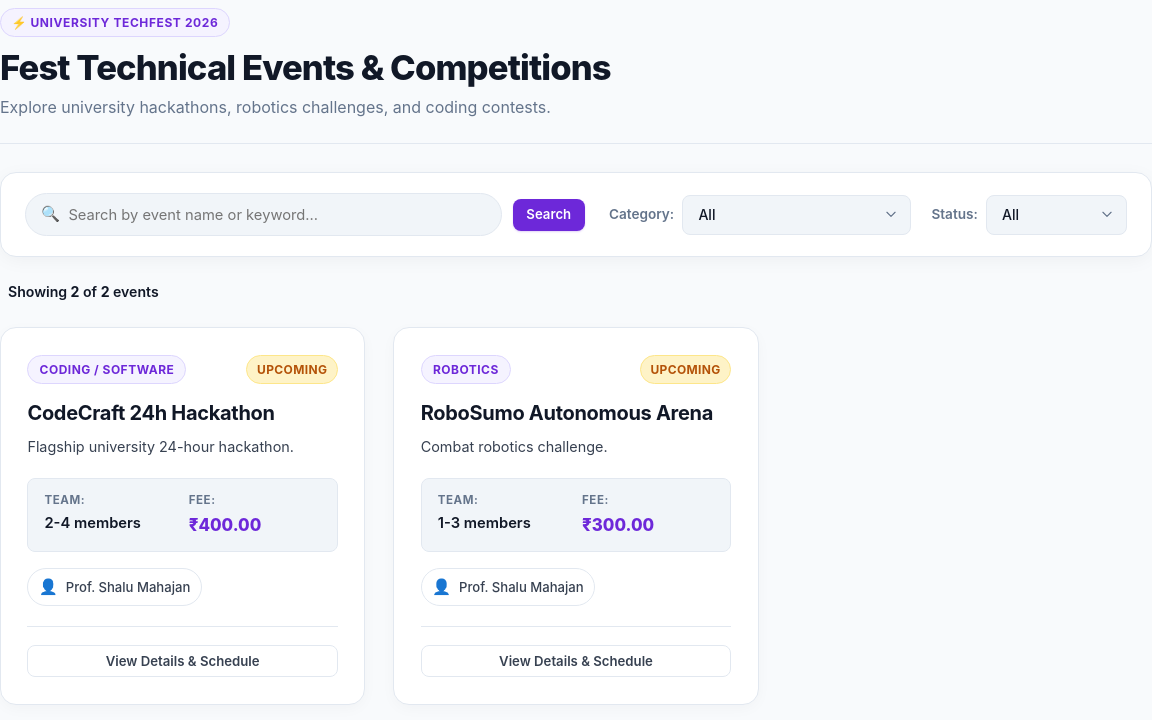
Test: Phase 04 Frontend — Event Discovery and Management Component Suite › opens EventDetailModal with schedule timeline when View Details is clicked
Check: the heading "CodeCraft 24h Hackathon" is shown, box [27,401,275,425]
Step 1. Click the button "View Details & Schedule" below "₹400.00" → coordinates (183, 661), box [27,645,338,677]
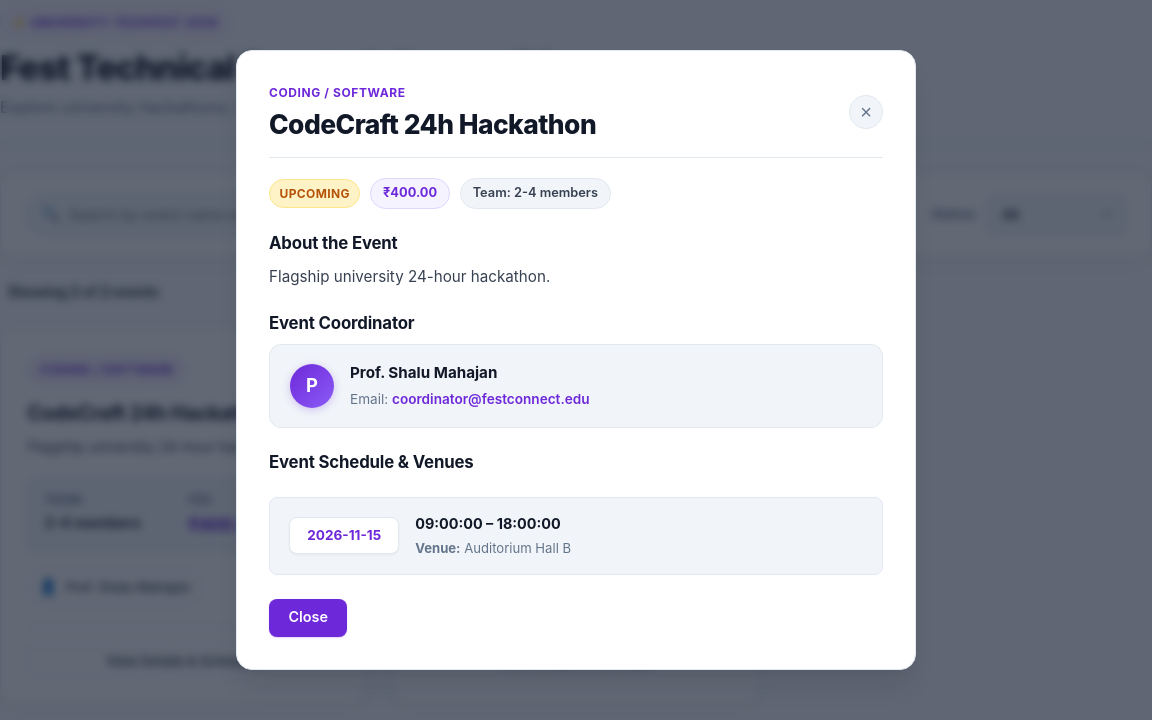
Check: the dialog is shown
Check: the heading "About the Event" is shown, box [269,233,398,253]
Check: the heading "Event Schedule & Venues" is shown, box [269,452,474,473]
// Close modal
Step 2. Click the button named "Close modal" → coordinates (866, 112), box [849,95,883,129]
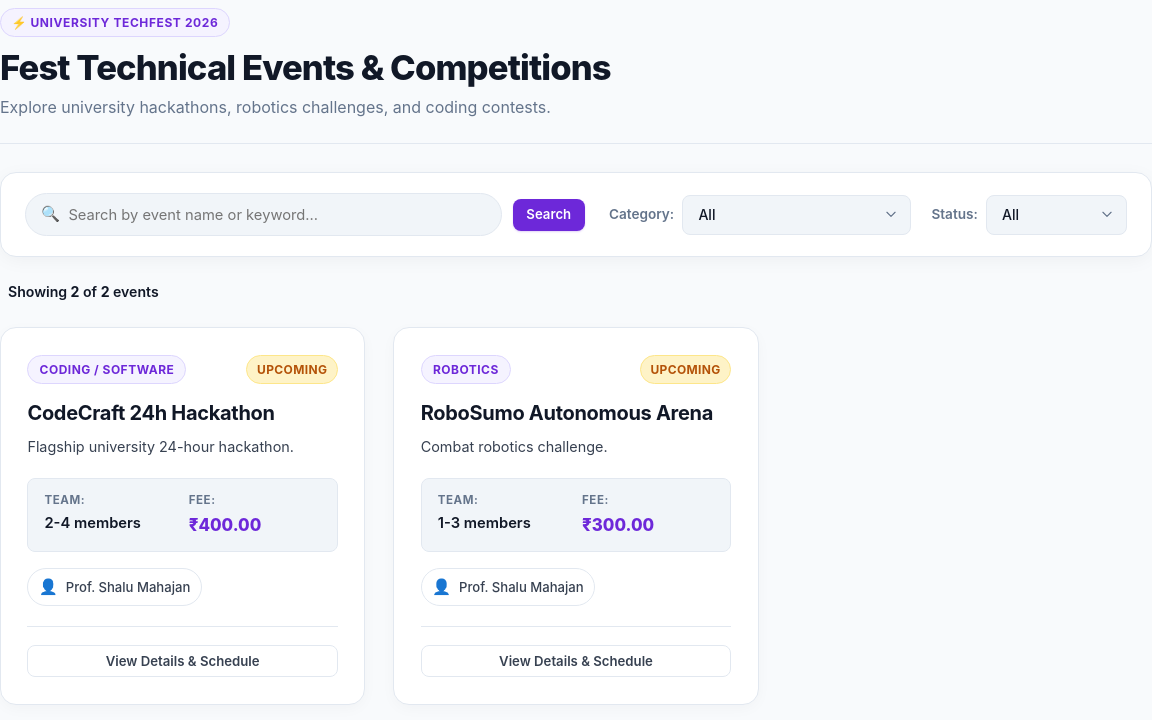
Check: the dialog is gone
